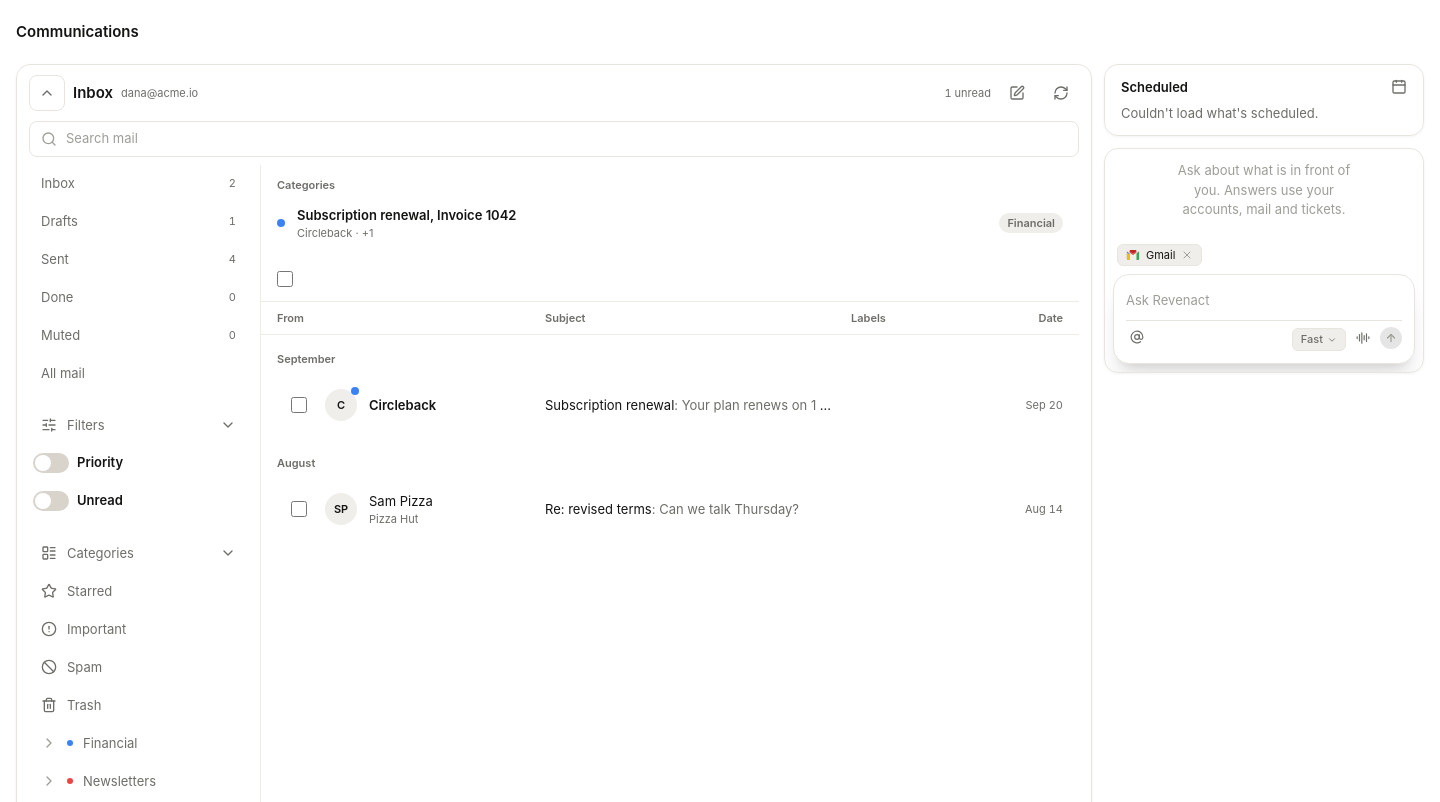
it: MailboxView › a message that cannot be opened says so in the reading pane, and the list survives
Expected: the element "September" is shown, [261,335,1079,439]
Click the button "Circleback": (451, 405) [369,395,533,415]
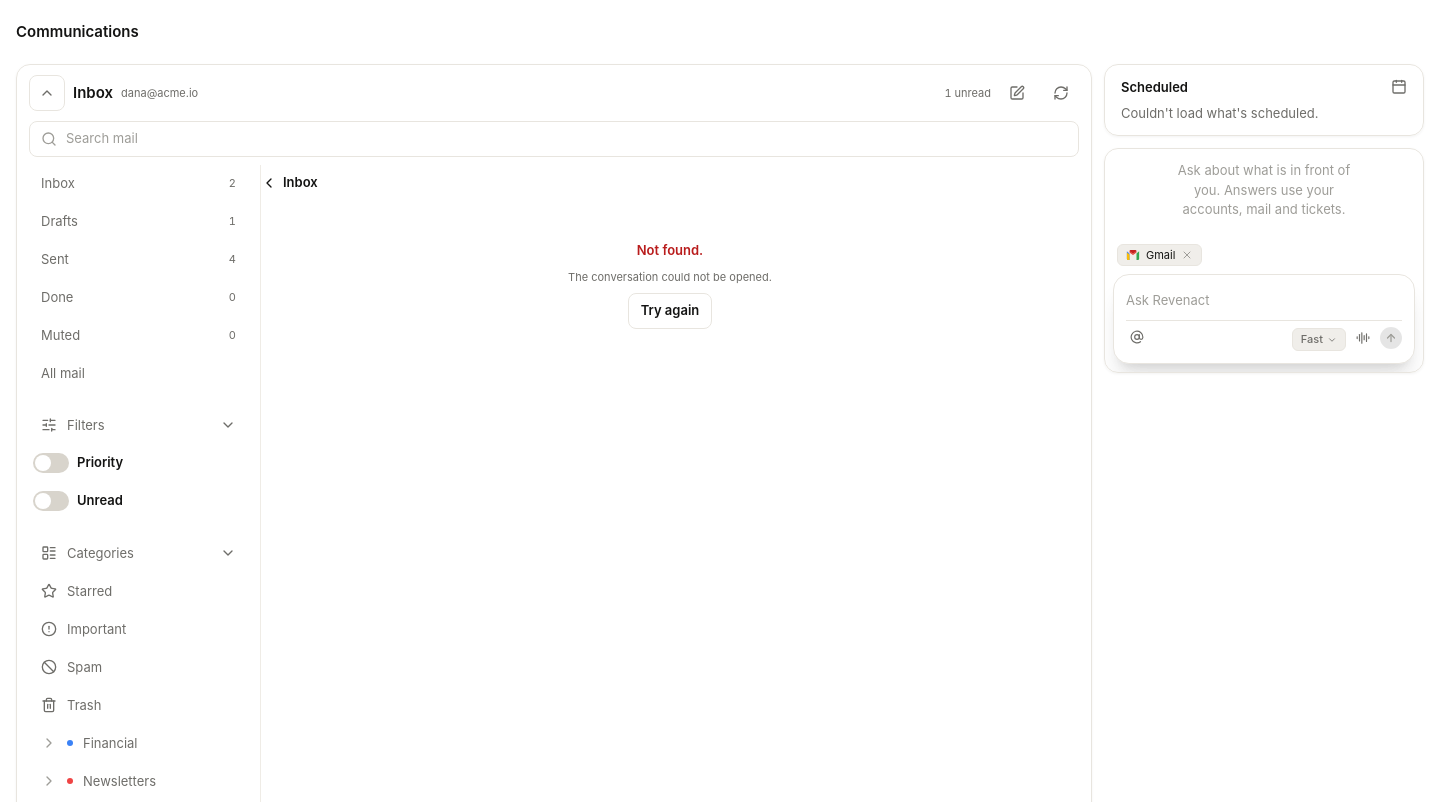
Result: the message shows "Not found." at [637,242,703,258]
Click the button "Inbox": (289, 183) [249,165,330,201]
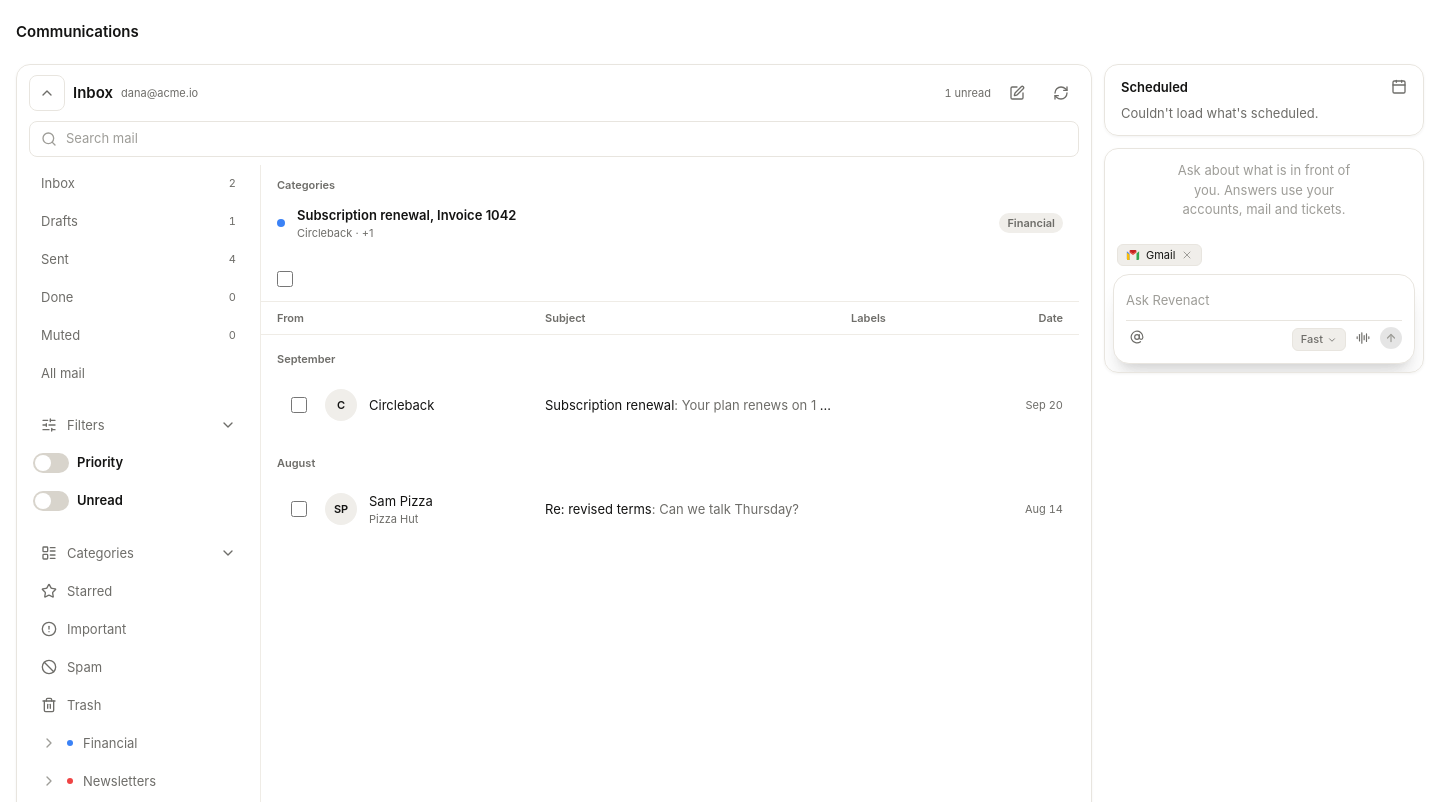
Result: the element "September" is shown at [261,335,1079,439]
